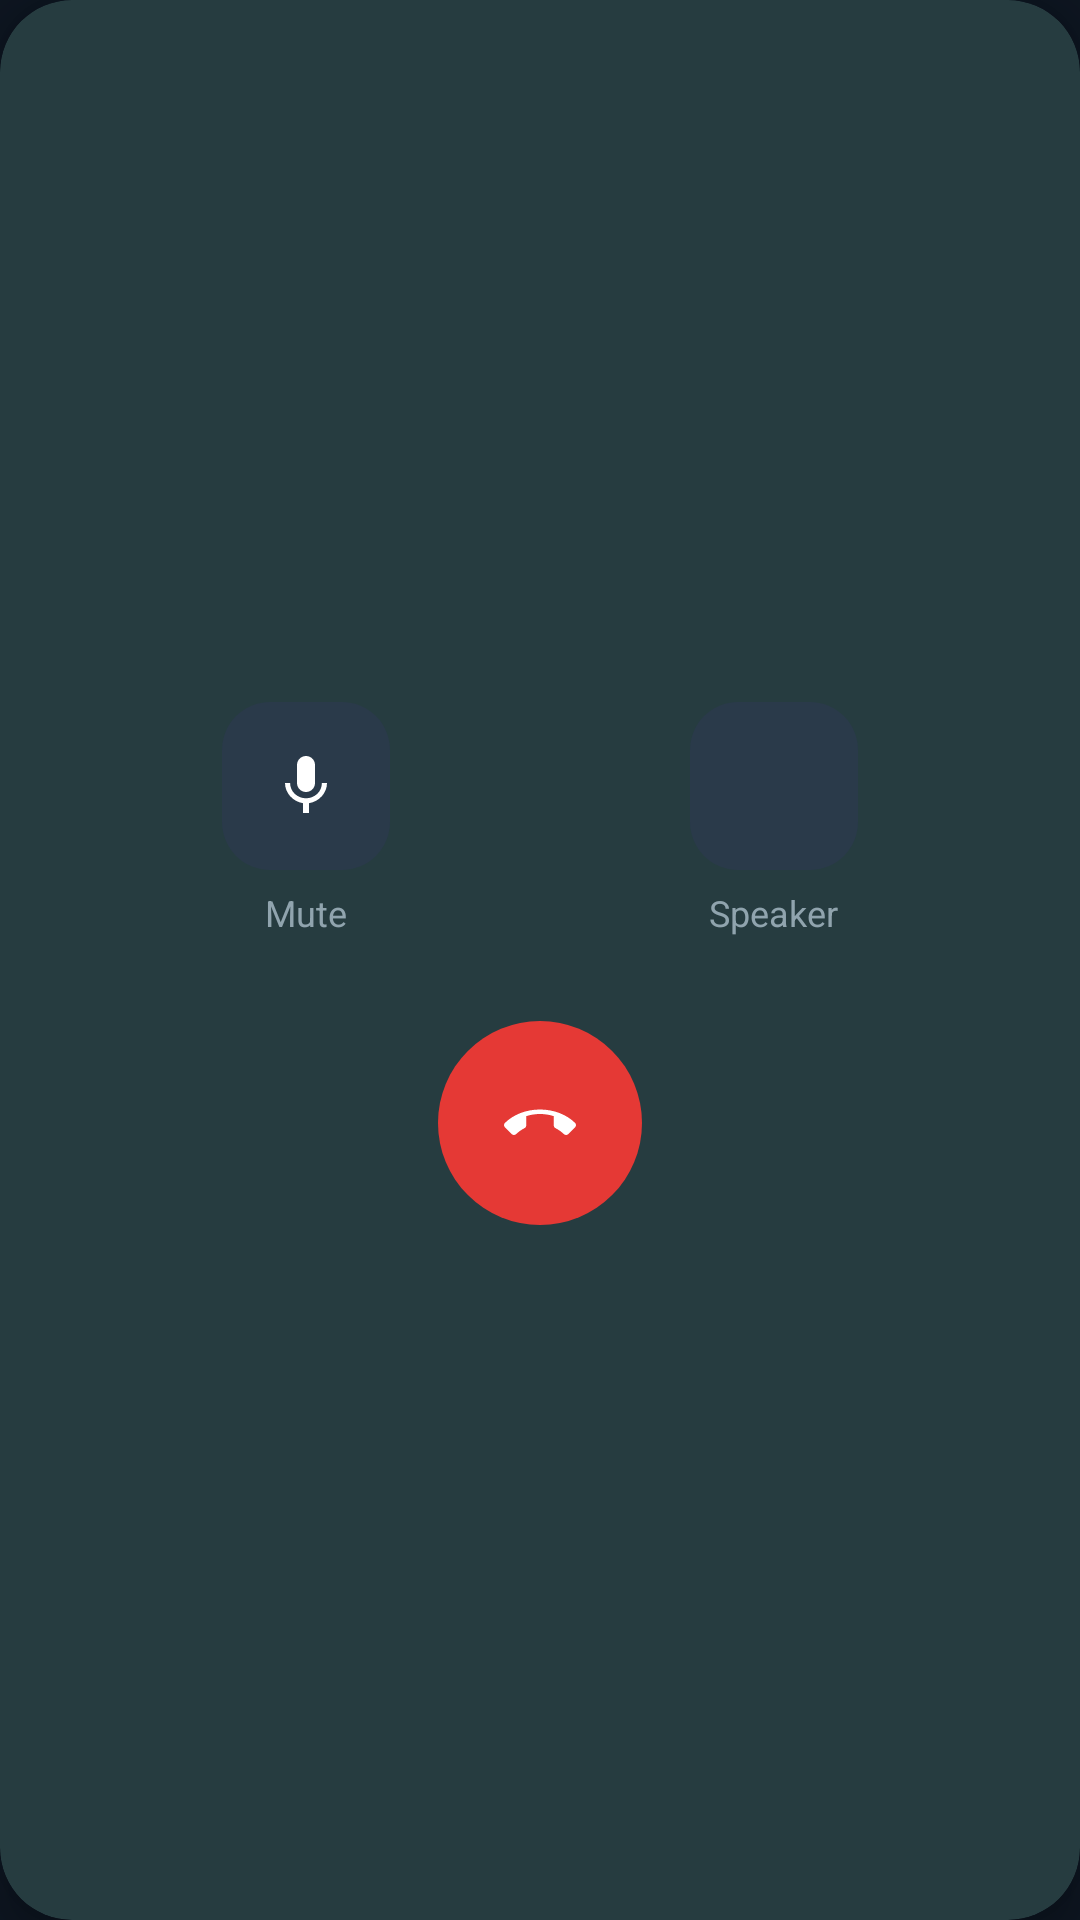

Point at icon controls on the screen. Image size 1080px×1920px, points as (x=x, y=y).
End Call: (x=540, y=1123)
